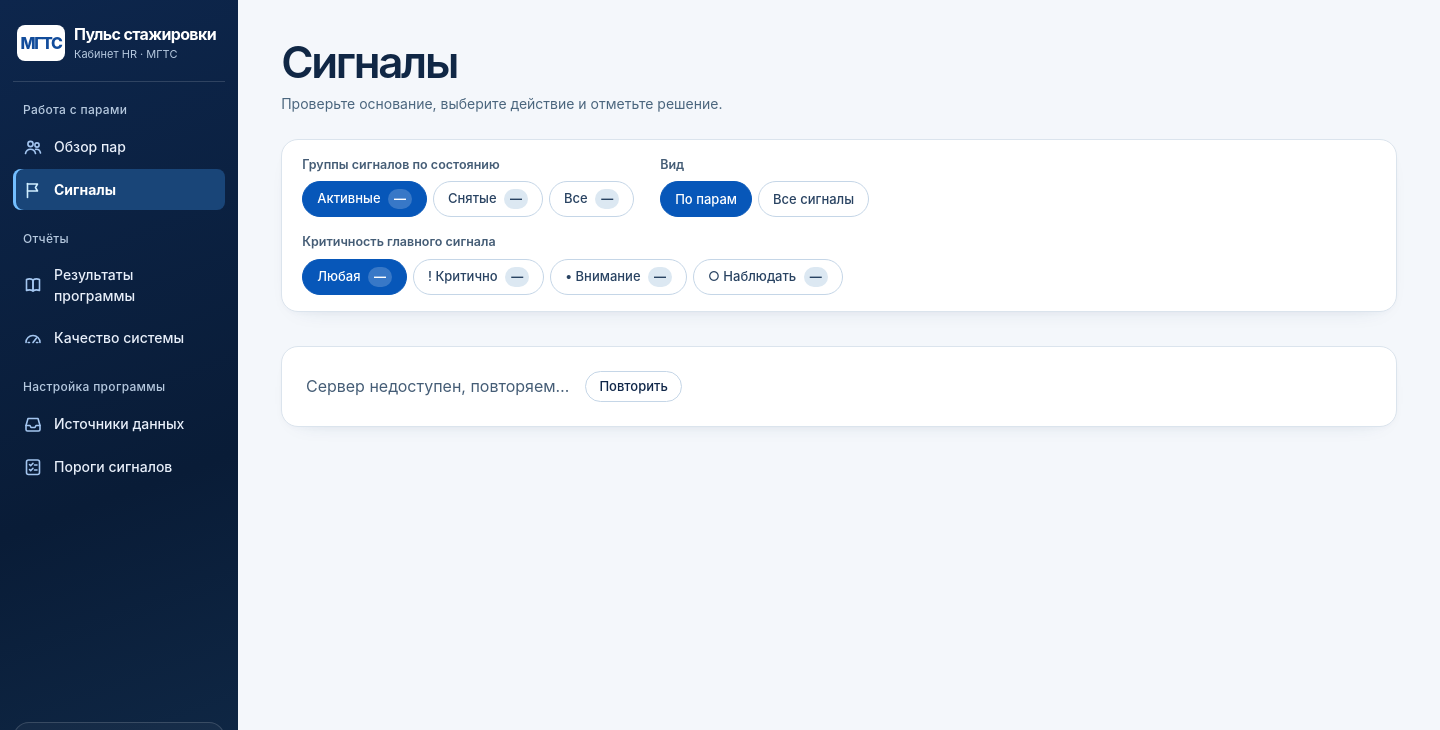
it: сервер недоступен: понятное сообщение и «Повторить»
Expected: the text "Сервер недоступен, повторяем…" is shown, [306,374,569,399]
Click the button "Повторить": (634,387) [585,371,682,402]
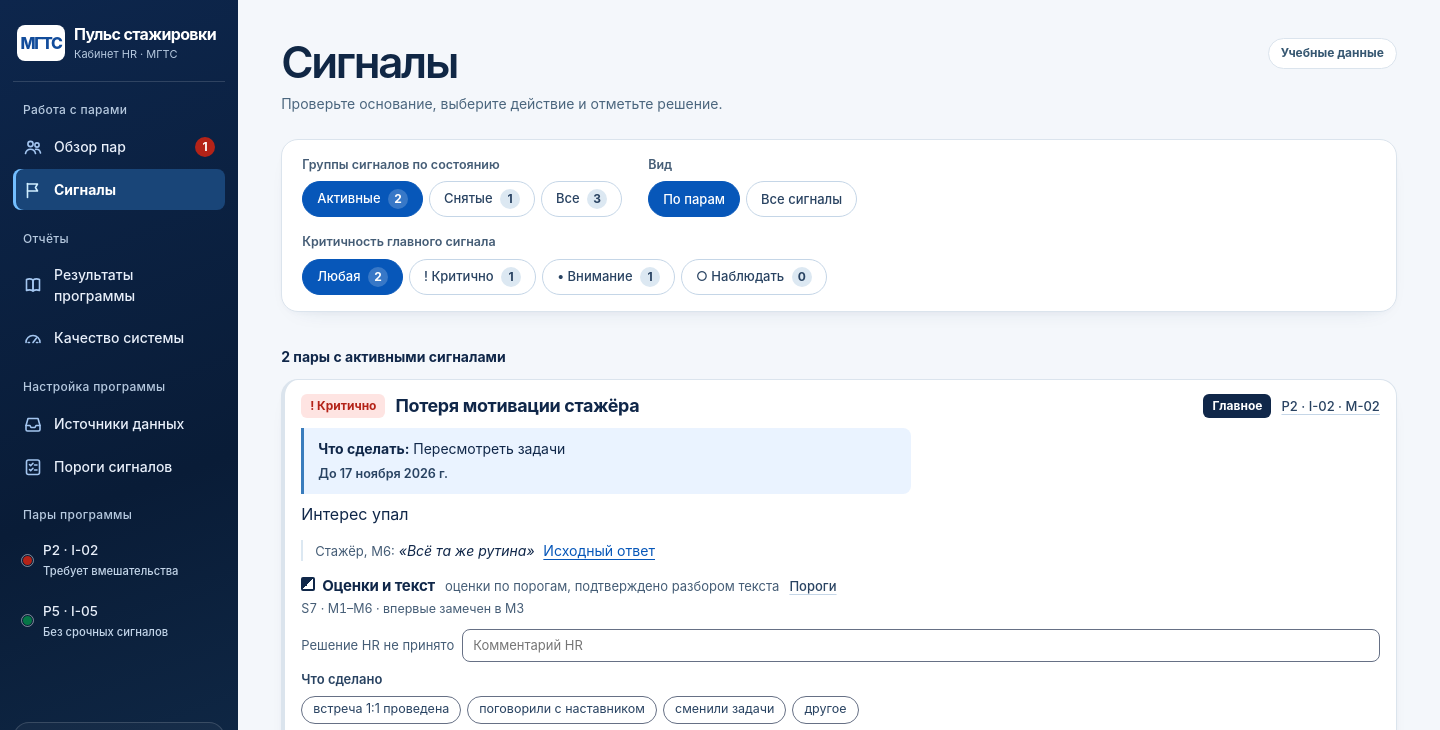
Expected: the button "Активные 2" is shown, [302,181,423,217]
